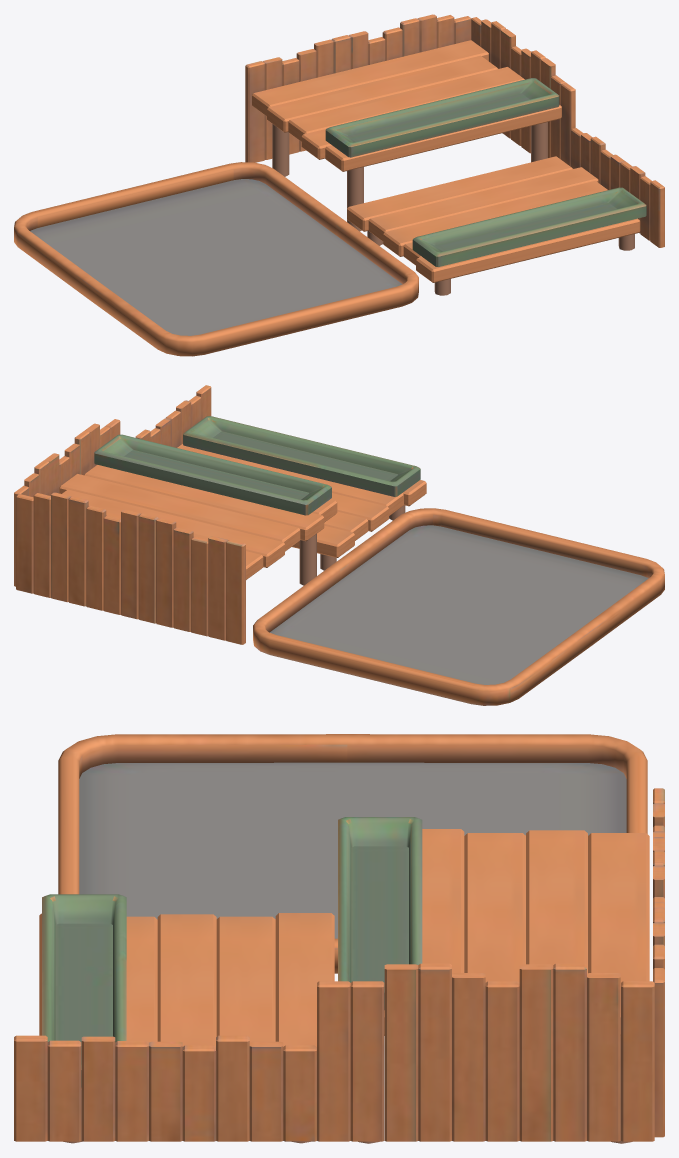
File: SSD_YangNiu_牛棚_01.fbx
3 renders of one model, top to bottom at view 1: azimuth 30°, elevation 25°; view 2: azimuth 150°, elevation 25°; view 3: azimuth 270°, elevation 25°, orthographic. The views are drawn at different scales.
Parts seen in each view (by area): view 1: niupeng.001, niupeng, 立方体.001, 立方体, 圆环.001, 圆环; view 2: niupeng.001, niupeng, 立方体.001, 立方体, 圆环.001; view 3: niupeng, niupeng.001, 立方体.001, 立方体.
Boxes of the visible parts, left/top/right/bottom form: niupeng.001: left=14, top=162, right=418, bottom=356; niupeng: left=245, top=14, right=664, bottom=266; 立方体.001: left=252, top=40, right=561, bottom=171; 立方体: left=347, top=156, right=640, bottom=282; 圆环.001: left=272, top=122, right=547, bottom=231; 圆环: left=367, top=231, right=634, bottom=295; niupeng.001: left=253, top=508, right=664, bottom=705; niupeng: left=14, top=385, right=420, bottom=644; 立方体.001: left=59, top=464, right=337, bottom=579; 立方体: left=177, top=444, right=426, bottom=557; 圆环.001: left=299, top=534, right=316, bottom=585; niupeng: left=14, top=788, right=664, bottom=1141; niupeng.001: left=58, top=734, right=647, bottom=973; 立方体.001: left=384, top=829, right=649, bottom=1035; 立方体: left=39, top=913, right=334, bottom=1088.
Size of the model in its own units: 1780 by 394 by 1239.
